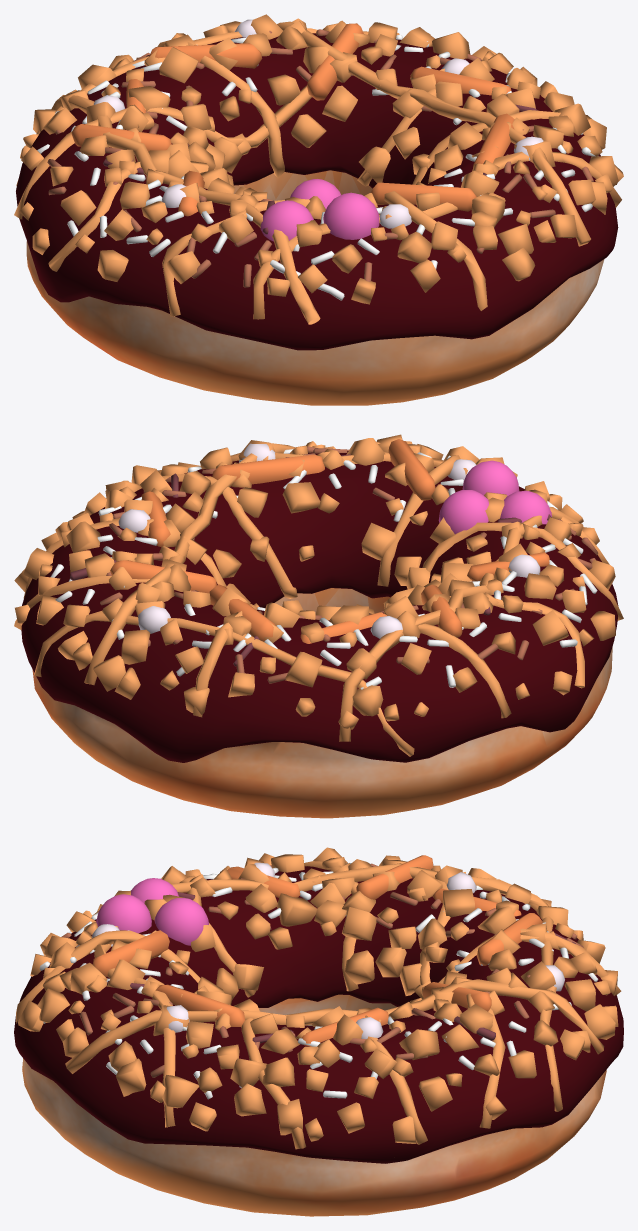
The model's file is modellq.glb.
3 renders of one model, top to bottom at view 1: azimuth 30°, elevation 25°; view 2: azimuth 150°, elevation 25°; view 3: azimuth 270°, elevation 25°, orthographic. The views are drawn at different scales.
Visible parts, largest first — view 1: Icing, peanutParticle, Donut, streak, sprinklesBig, sprinkleLong.001, sprinklesBigBalls, sprinkleAltBall; view 2: Icing, peanutParticle, Donut, streak, sprinklesBig, sprinkleLong.001, sprinklesBigBalls, sprinkleAltBall, sprinkleAlt; view 3: Icing, peanutParticle, Donut, streak, sprinklesBig, sprinkleLong.001, sprinklesBigBalls, sprinkleAltBall, sprinkleAlt.
Boxes of the visible parts, x1,y1,x2,y2 form: Icing: [16, 33, 618, 350]; peanutParticle: [19, 14, 623, 304]; Donut: [26, 170, 604, 405]; streak: [14, 21, 621, 324]; sprinklesBig: [71, 23, 514, 216]; sprinkleLong.001: [37, 29, 598, 300]; sprinklesBigBalls: [260, 179, 379, 241]; sprinkleAltBall: [93, 19, 543, 228]; Icing: [21, 451, 618, 762]; peanutParticle: [14, 434, 615, 729]; Donut: [32, 588, 612, 818]; streak: [14, 443, 623, 756]; sprinklesBig: [110, 439, 549, 643]; sprinkleLong.001: [50, 446, 598, 689]; sprinklesBigBalls: [438, 460, 551, 534]; sprinkleAltBall: [118, 443, 540, 638]; sprinkleAlt: [70, 454, 551, 666]; Icing: [14, 866, 623, 1163]; peanutParticle: [18, 847, 618, 1143]; Donut: [22, 994, 606, 1216]; streak: [16, 861, 621, 1149]; sprinklesBig: [93, 855, 542, 1046]; sprinkleLong.001: [39, 863, 598, 1099]; sprinklesBigBalls: [96, 878, 208, 945]; sprinkleAltBall: [92, 862, 564, 1039]; sprinkleAlt: [106, 892, 575, 1043].
Size of the model in its own units: 0.1194 by 0.0438 by 0.1221.
Materials: 9 (1 with a texture image).
